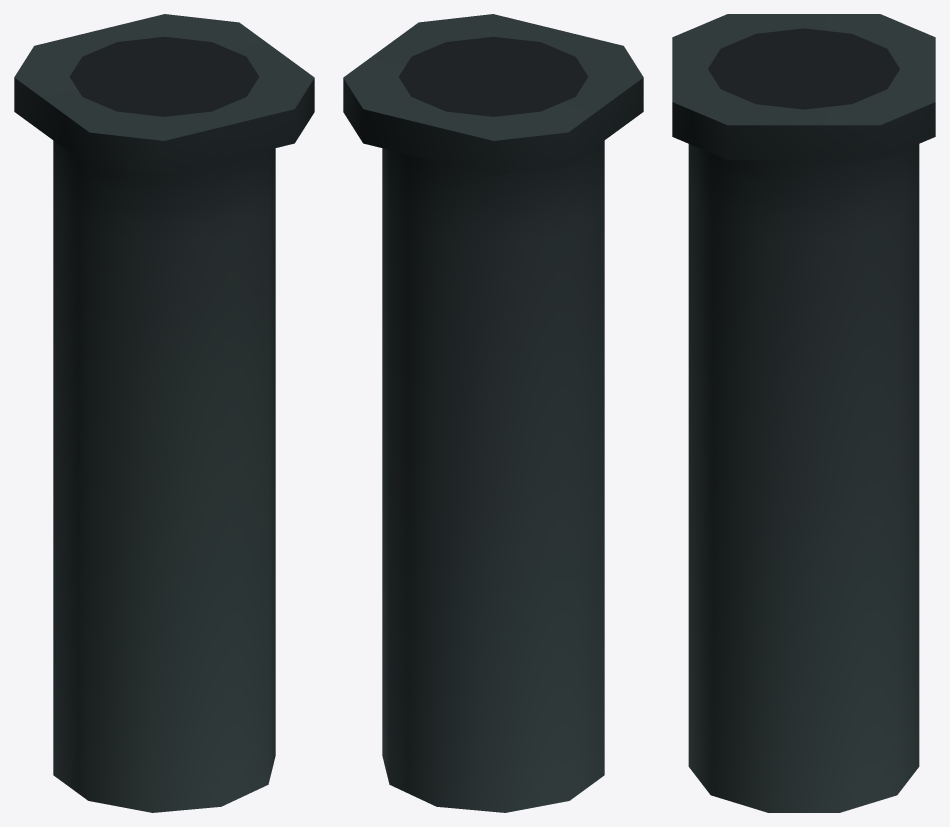
The model's file is Pipe_3A.fbx.
3 views of the same model, side by side, from view 1: azimuth 30°, elevation 25°; view 2: azimuth 150°, elevation 25°; view 3: azimuth 270°, elevation 25° (orthographic).
Parts seen in each view (by area): view 1: Pipe_3A; view 2: Pipe_3A; view 3: Pipe_3A.
Part boxes in pixels (left/top/right/bottom): Pipe_3A: left=14, top=14, right=314, bottom=812; Pipe_3A: left=343, top=14, right=643, bottom=812; Pipe_3A: left=672, top=14, right=935, bottom=812.
Bounding box in the file's own units: 137 × 401 × 137.
